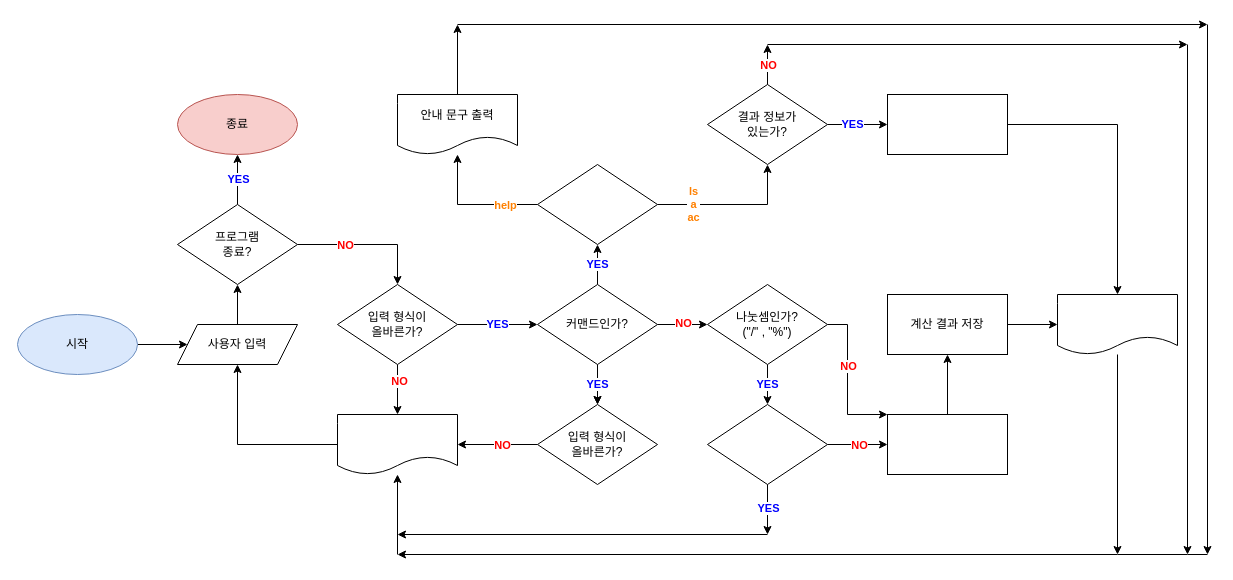
Some shapes in this 1233 by 580 pixel diagram are drawn without their labels. Each missing label, with the centre of its shape:
"결과 출력" goes at pixel 1117 324.
"나눗수가 0인가?" goes at pixel 767 444.
"어떤 커맨드인가?" goes at pixel 597 204.
"에러 메세지 출력" goes at pixel 397 444.
"연산자에 따라 계산 진행" goes at pixel 947 444.
"커맨드에 맞는 적절한 동작 (삭제, 조회)" goes at pixel 947 124.
